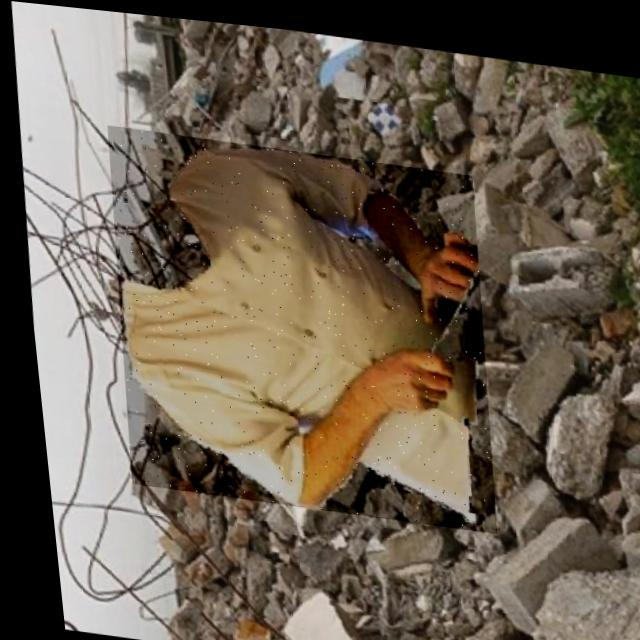Person in Rubble: (92, 121, 498, 524)
